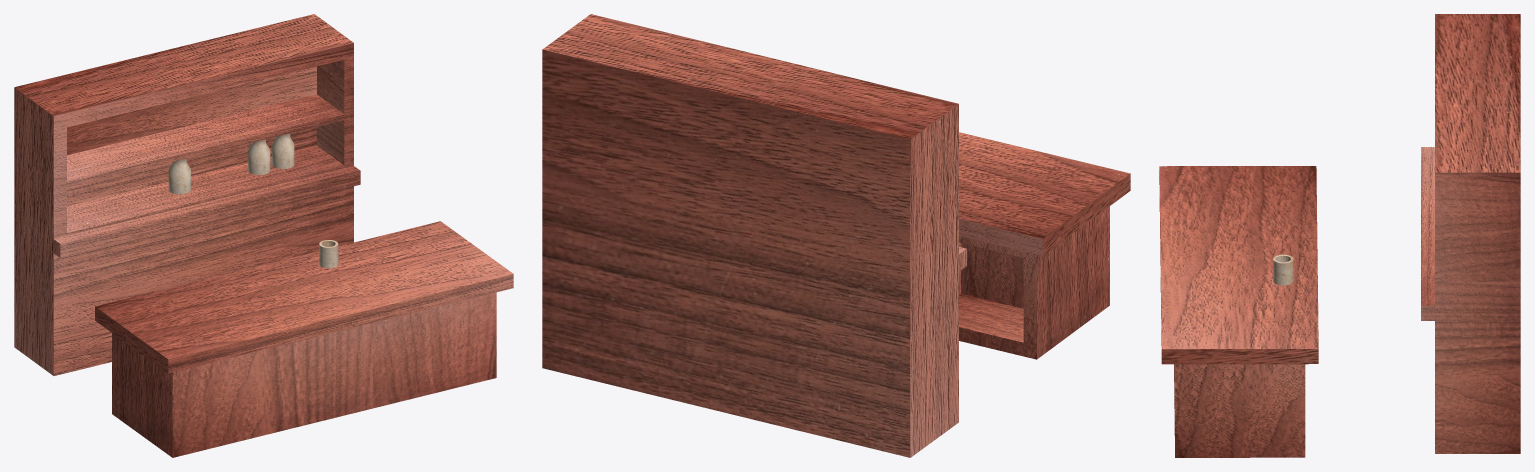
Rendered from LivingQuarters_CapsBar_Unwrapped.fbx.
The picture shows the model from 3 angles, left to right: view 1: azimuth 30°, elevation 25°; view 2: azimuth 150°, elevation 25°; view 3: azimuth 270°, elevation 25°; orthographic projection. The views are drawn at different scales.
Parts seen in each view (by area): view 1: Table004, BarTable, Liquor002, Liquor, Liquor001, Glass; view 2: Table004, BarTable; view 3: BarTable, Table004, Glass.
Boxes of the visible parts, box(x1,y1,x2,y2) form: Table004: box(14, 14, 360, 375); BarTable: box(95, 221, 513, 457); Liquor002: box(168, 158, 190, 194); Liquor: box(272, 133, 294, 169); Liquor001: box(248, 139, 270, 174); Glass: box(319, 240, 338, 268); Table004: box(542, 14, 966, 457); BarTable: box(959, 132, 1130, 359); BarTable: box(1159, 166, 1318, 457); Table004: box(1421, 14, 1520, 453); Glass: box(1273, 254, 1293, 285).
Size of the model in its own units: 129 by 92.3 by 107.
